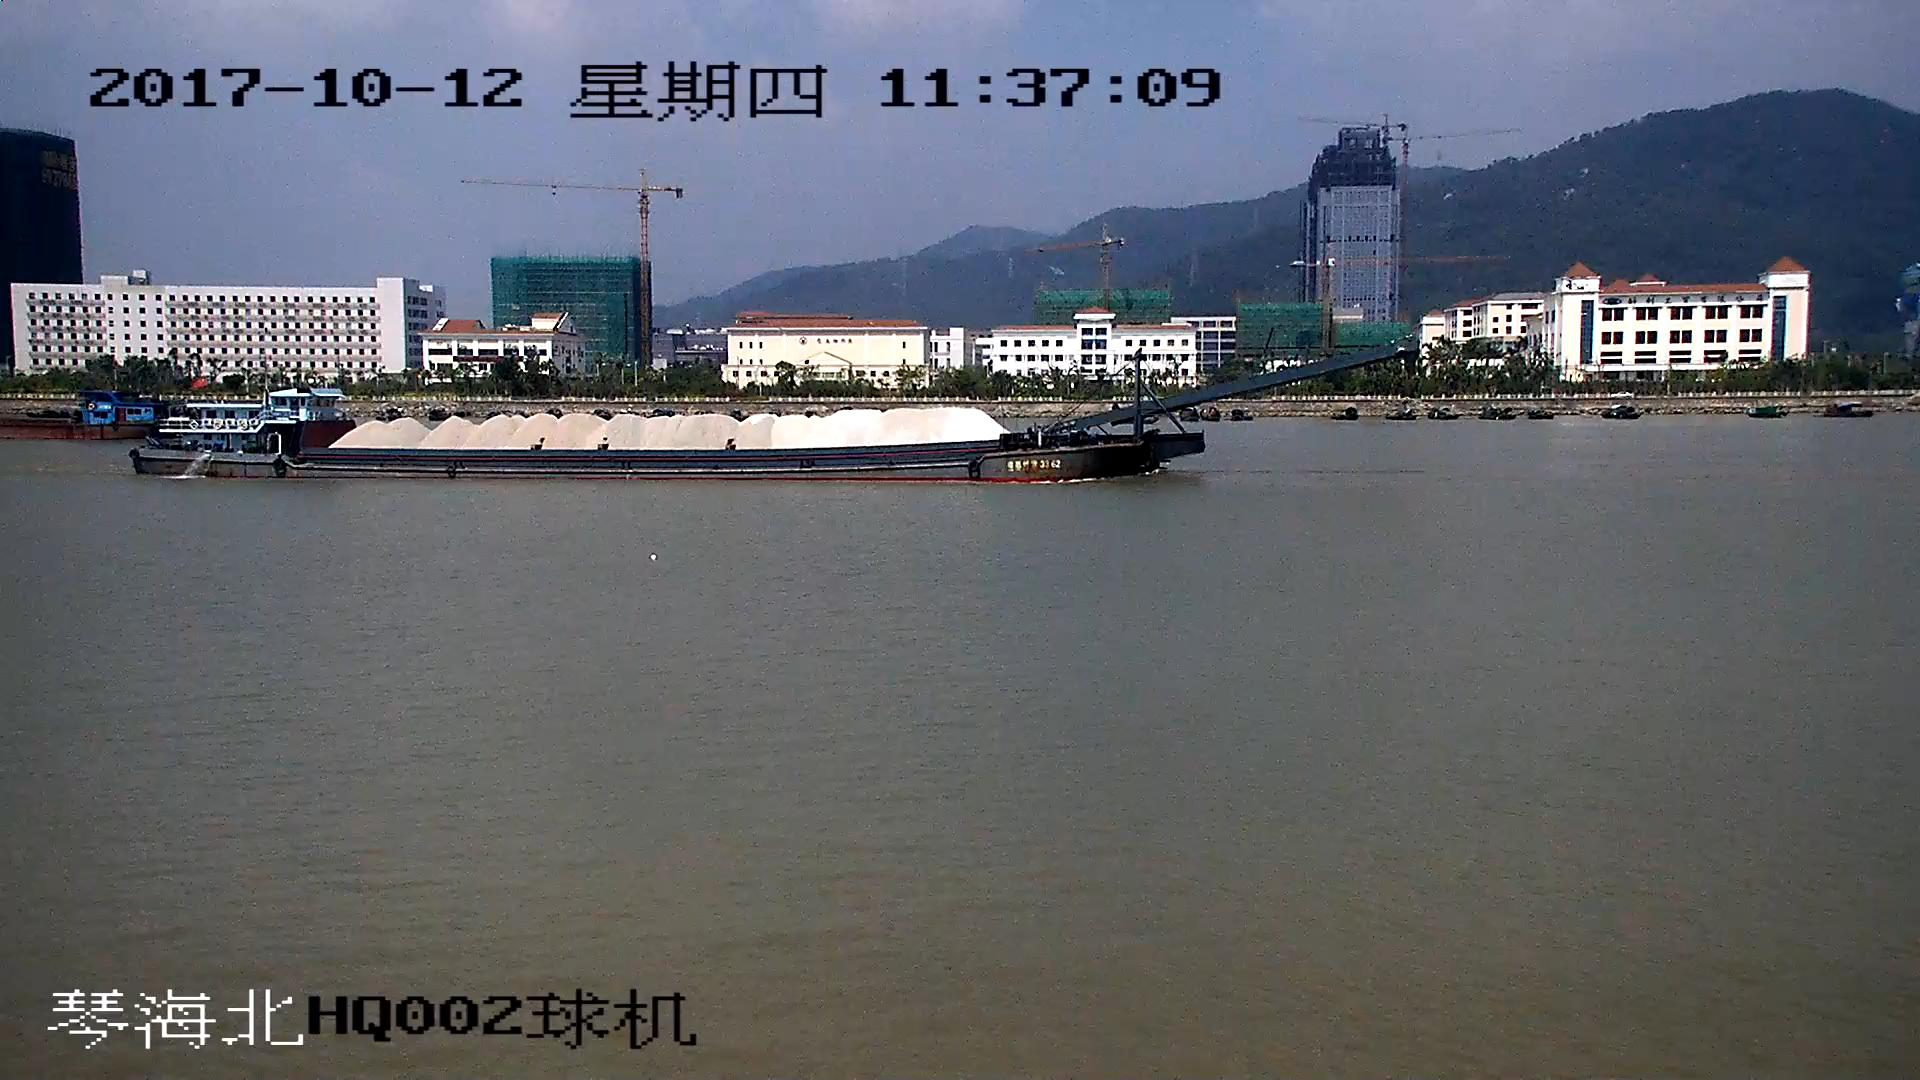ore carrier: (131, 340, 1405, 478)
